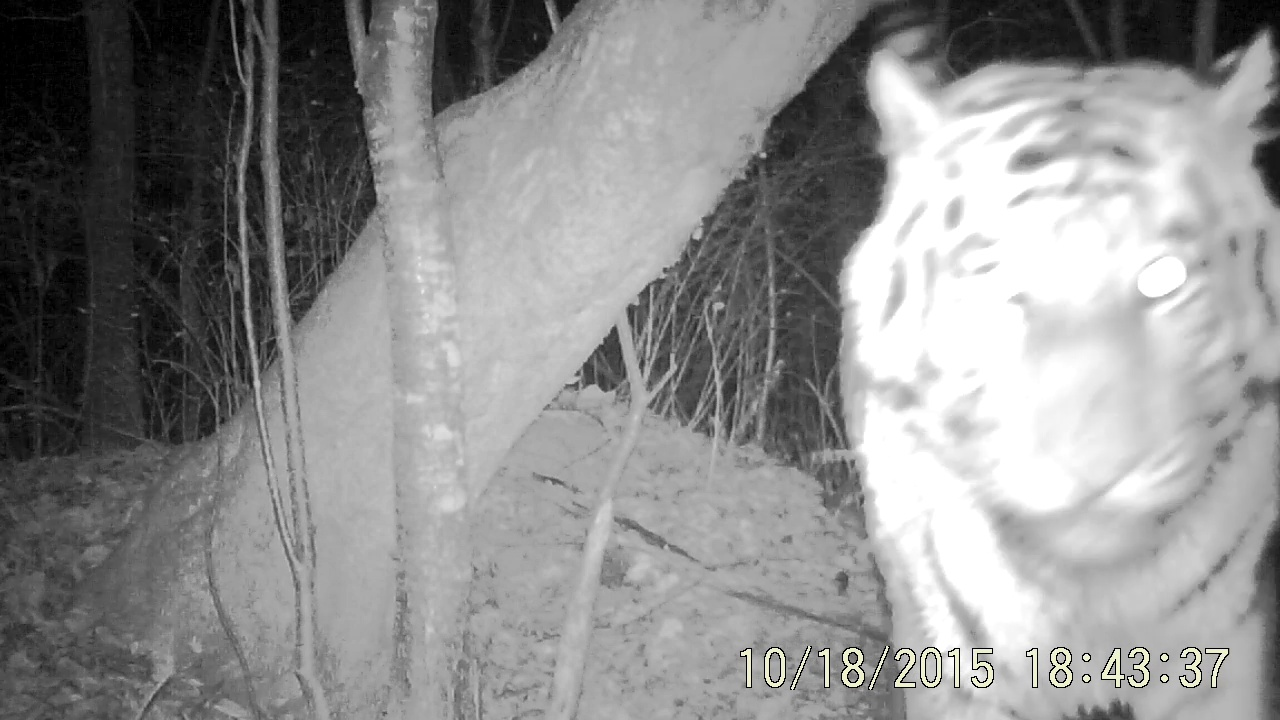Tiger: (803, 31, 1280, 638)
